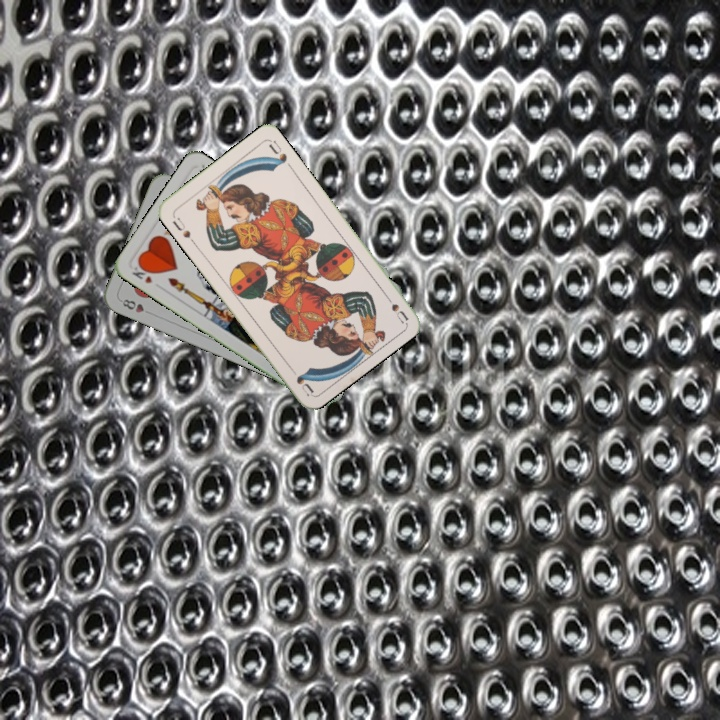H8: (118, 295, 154, 317)
HK: (128, 260, 156, 286)
SU: (379, 288, 410, 325), (169, 213, 198, 246)
